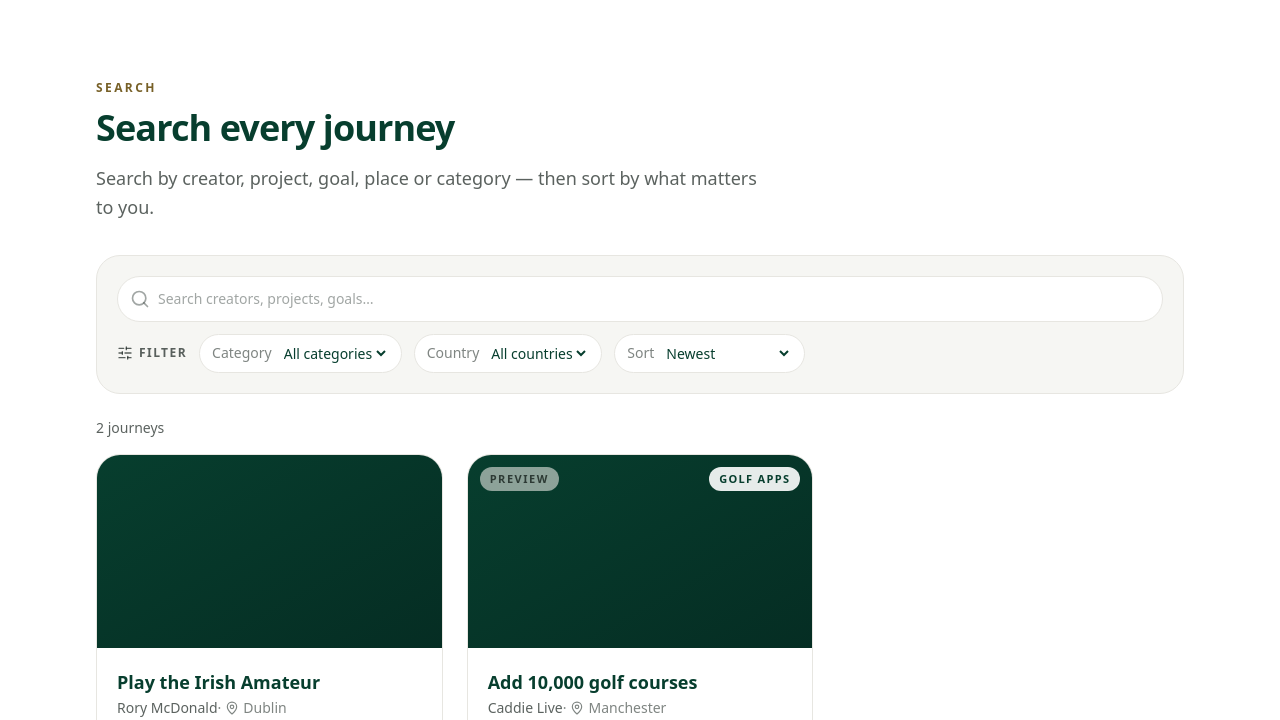
Test case: DiscoverBrowser › searches Preview cards by their translated text, not their keys
This screenshot has width=1280, height=720.
In the search field named "Search creators, projects and goals": x=654, y=298 [158,276,1150,320], type "Manchester"
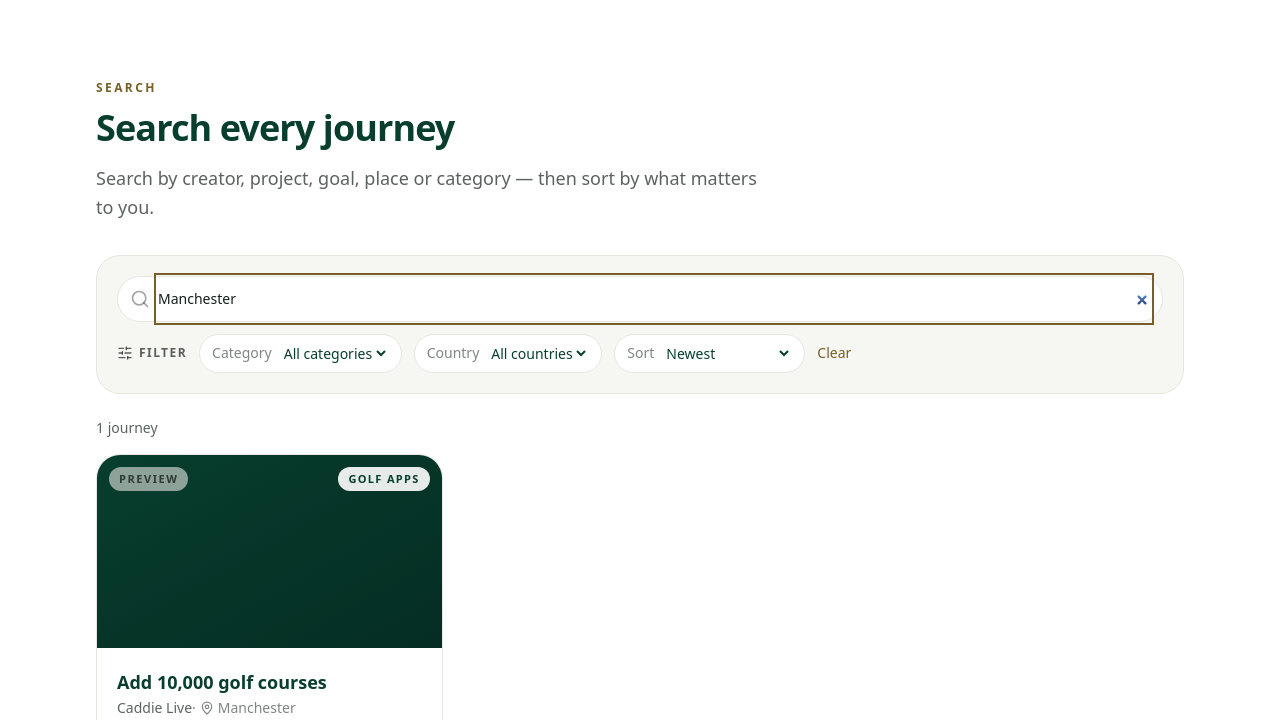
Expected: the heading "Add 10,000 golf courses" is shown, [117,670,327,694]
Expected: the text "1 journey" is shown, [96,418,158,436]
Expected: the heading "Play the Irish Amateur" is gone
